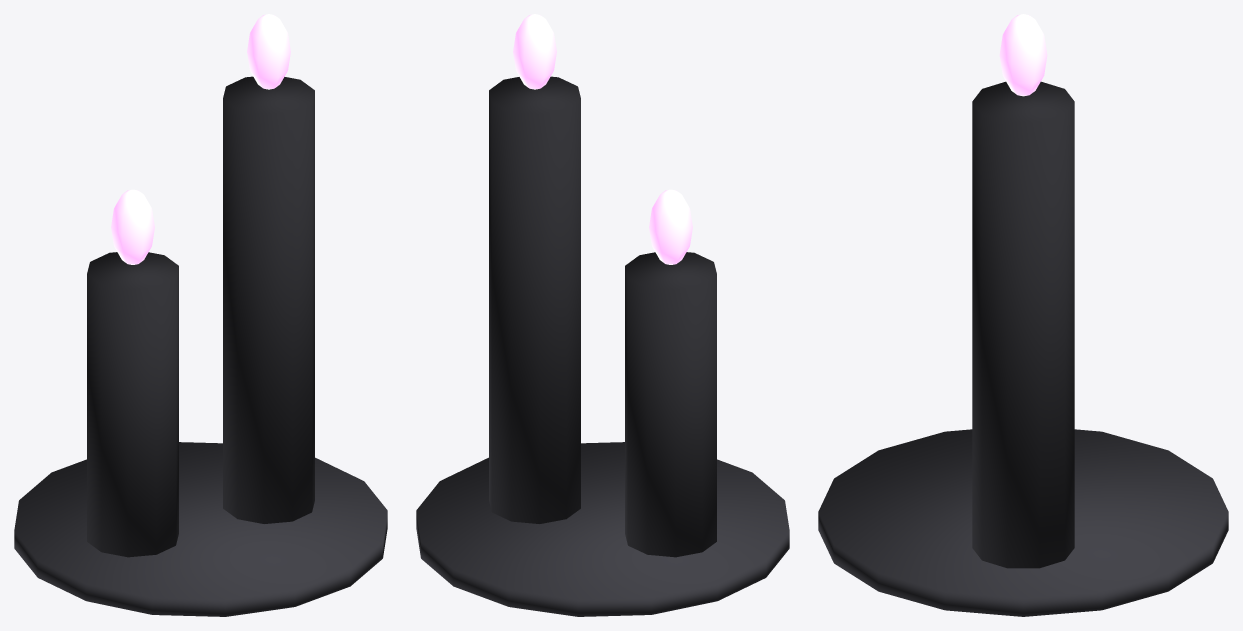
File: candle_group_black_candles.glb
3 renders of one model, left to right at view 1: azimuth 30°, elevation 25°; view 2: azimuth 150°, elevation 25°; view 3: azimuth 270°, elevation 25°, orthographic. The views are drawn at different scales.
Visible parts, largest first — view 1: GD_candle_group_black_candles__m0, GD_candle_group_black_candles__m2, GD_candle_group_black_candles__m1; view 2: GD_candle_group_black_candles__m0, GD_candle_group_black_candles__m2, GD_candle_group_black_candles__m1; view 3: GD_candle_group_black_candles__m0, GD_candle_group_black_candles__m2, GD_candle_group_black_candles__m1.
Boxes of the visible parts, x1,y1,x2,y2 form: GD_candle_group_black_candles__m0: [87, 76, 314, 557]; GD_candle_group_black_candles__m2: [14, 442, 387, 616]; GD_candle_group_black_candles__m1: [111, 14, 290, 264]; GD_candle_group_black_candles__m0: [489, 76, 716, 557]; GD_candle_group_black_candles__m2: [416, 442, 789, 616]; GD_candle_group_black_candles__m1: [513, 14, 692, 264]; GD_candle_group_black_candles__m0: [972, 81, 1074, 568]; GD_candle_group_black_candles__m2: [818, 429, 1228, 616]; GD_candle_group_black_candles__m1: [999, 14, 1047, 96].
Bounding box in the file's own units: 0.24 × 0.3566 × 0.24.
